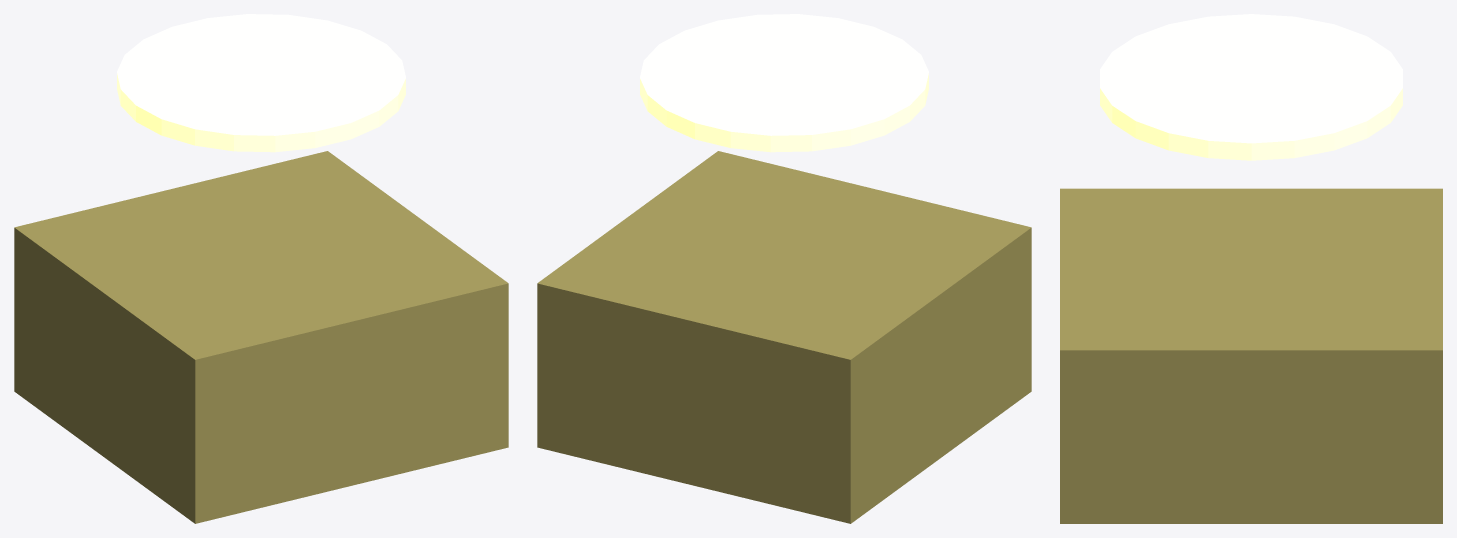
Rendered from Goal_Half.glb.
3 renders of one model, left to right at view 1: azimuth 30°, elevation 25°; view 2: azimuth 150°, elevation 25°; view 3: azimuth 270°, elevation 25°, orthographic. The views are drawn at different scales.
Parts seen in each view (by area): view 1: Goal_Half_body, glow_disc.001; view 2: Goal_Half_body, glow_disc.001; view 3: Goal_Half_body, glow_disc.001.
Boxes of the visible parts, left/top/right/bottom form: Goal_Half_body: left=14, top=151, right=508, bottom=523; glow_disc.001: left=117, top=14, right=405, bottom=152; Goal_Half_body: left=537, top=151, right=1031, bottom=523; glow_disc.001: left=640, top=14, right=928, bottom=152; Goal_Half_body: left=1060, top=188, right=1442, bottom=523; glow_disc.001: left=1100, top=14, right=1402, bottom=160.
Bounding box in the file's own units: 1 × 1.05 × 1.
